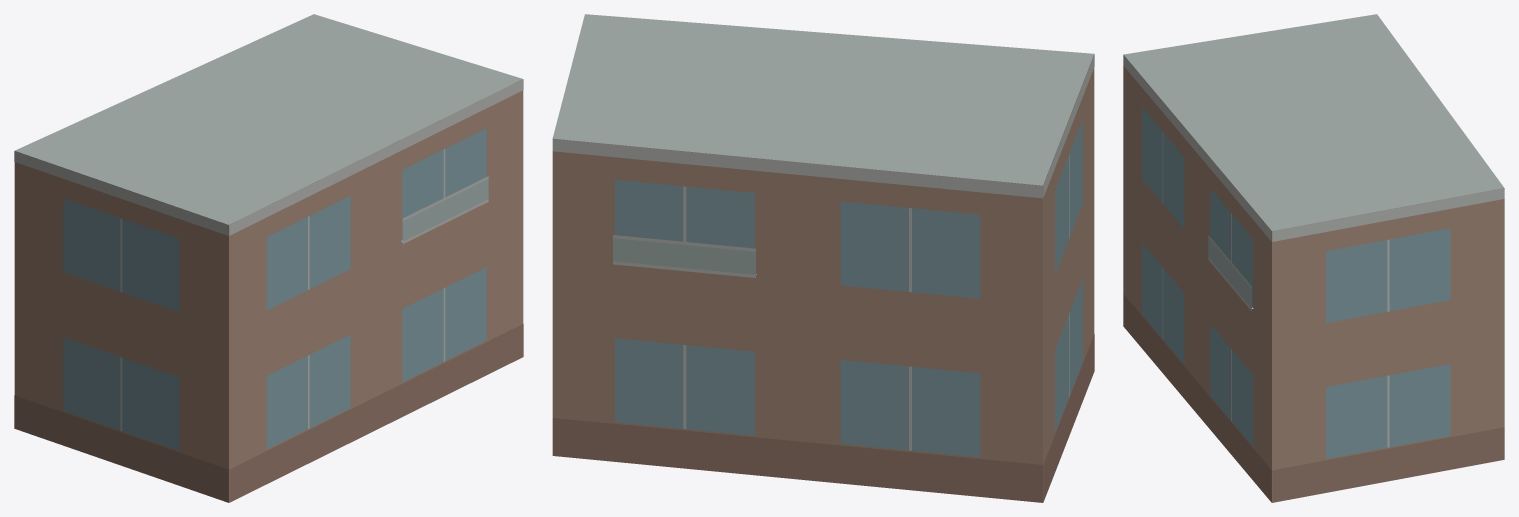
The model's file is survey-upis-32912027.glb.
The picture shows the model from 3 angles, left to right: view 1: azimuth 30°, elevation 25°; view 2: azimuth 150°, elevation 25°; view 3: azimuth 270°, elevation 25°; orthographic projection. The views are drawn at different scales.
Visible parts, largest first — view 1: survey-upis-32912027.tmp; view 2: survey-upis-32912027.tmp; view 3: survey-upis-32912027.tmp.
Boxes of the visible parts, x1=… form: survey-upis-32912027.tmp: x1=14, y1=14, x2=523, y2=502; survey-upis-32912027.tmp: x1=552, y1=14, x2=1094, y2=502; survey-upis-32912027.tmp: x1=1123, y1=14, x2=1504, y2=502.
Bounding box in the file's own units: 10.47 × 6.1 × 7.77.
